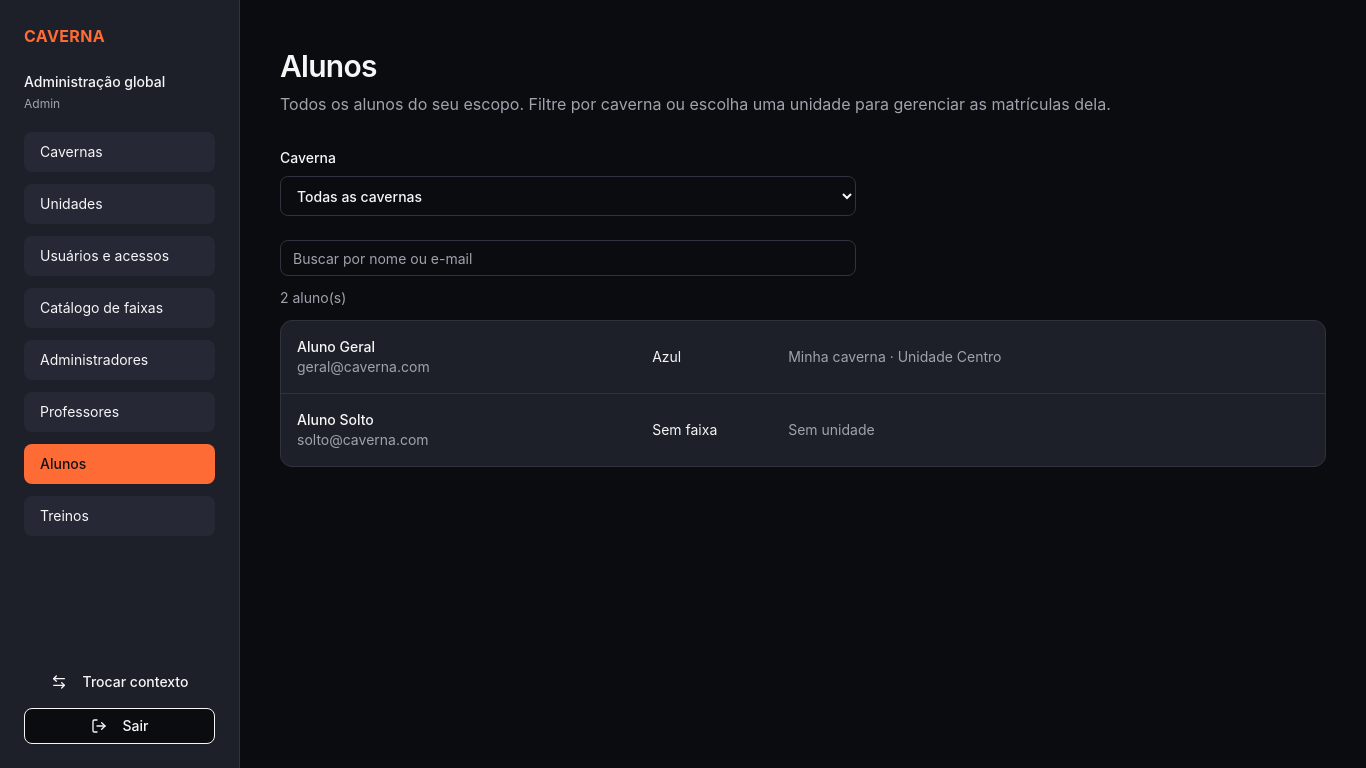
it: "Validar faixa" shortcut › is hidden in the platform context, which cannot open the evaluations page
Select "Caverna Global" in the dropdown labelled "Caverna" at (568,196), box [280,176,856,216]
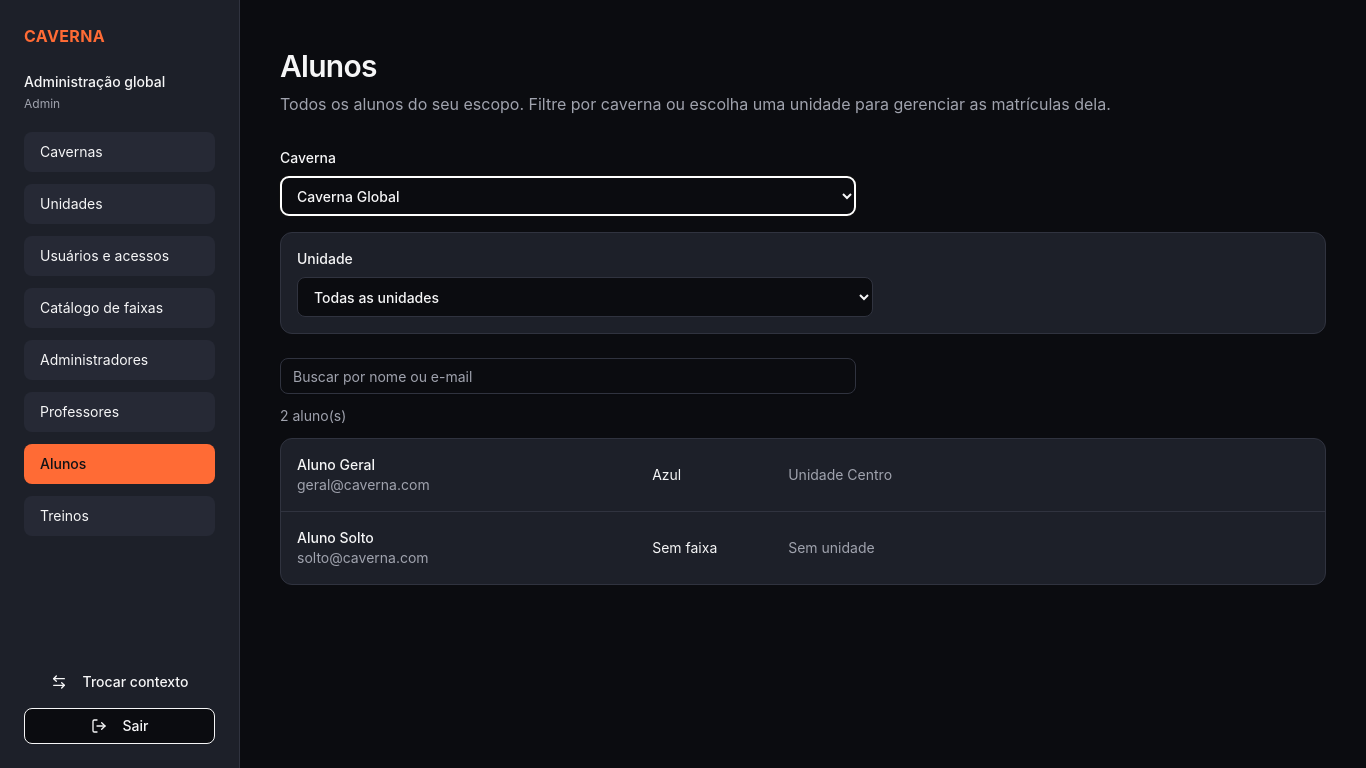
Select "Unidade Centro · Centro" in the dropdown labelled "Unidade" at (585,297), box [297,277,873,317]
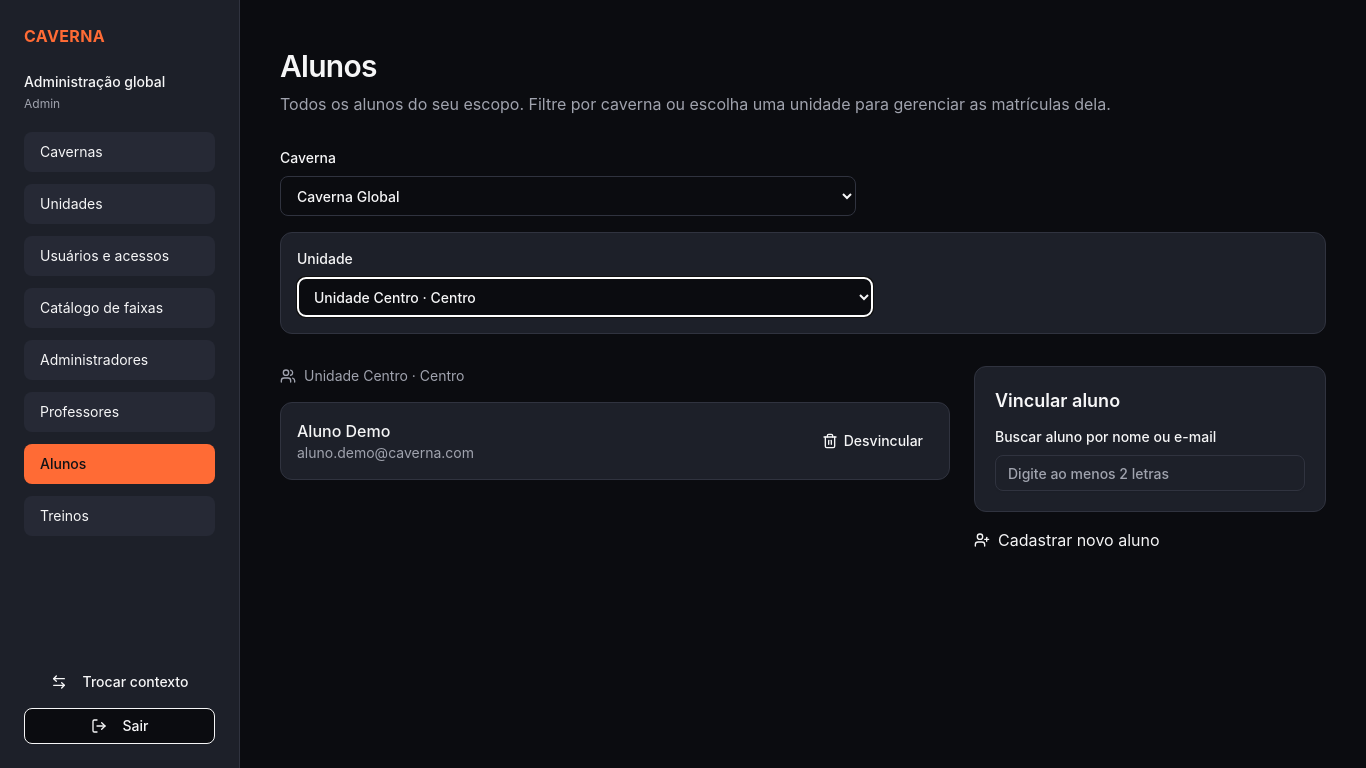
Check: the text "Aluno Demo" is shown, box [297,421,390,441]
Check: the button "Desvincular" is shown, box [812,425,933,457]
